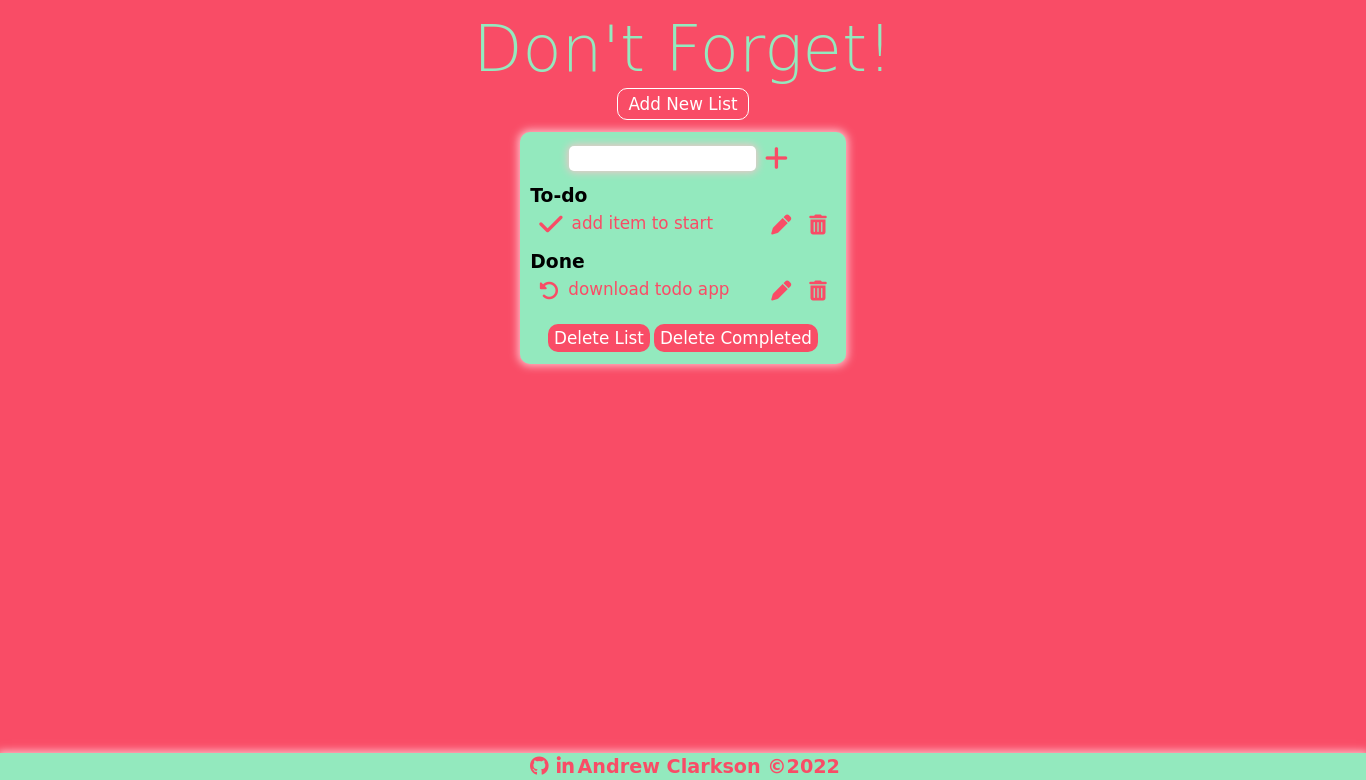
single todo list testing › can add new item to each list
Type "wash car" into the field with test id "input" at (663,159), box x1=569 y1=146 x2=756 y2=171
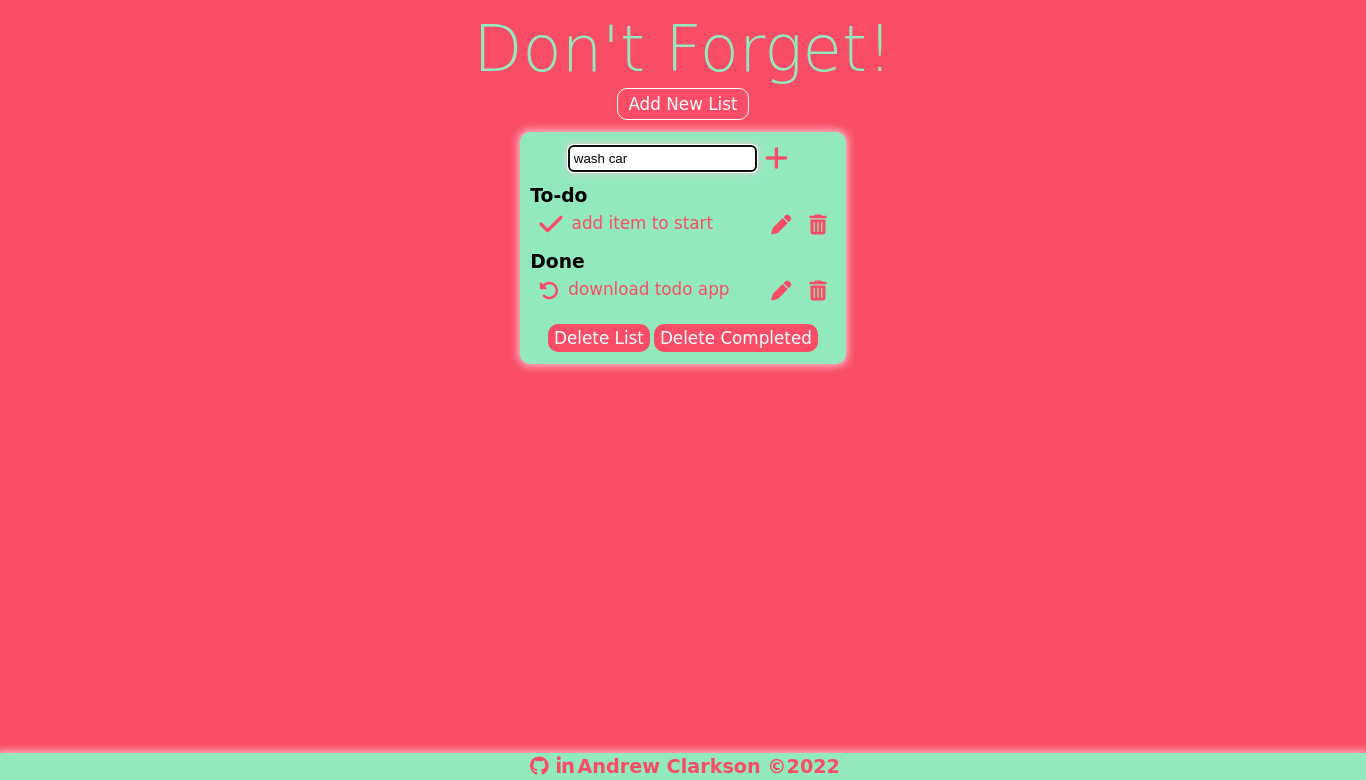
Press Enter in the field with test id "input", box x1=569 y1=146 x2=756 y2=171
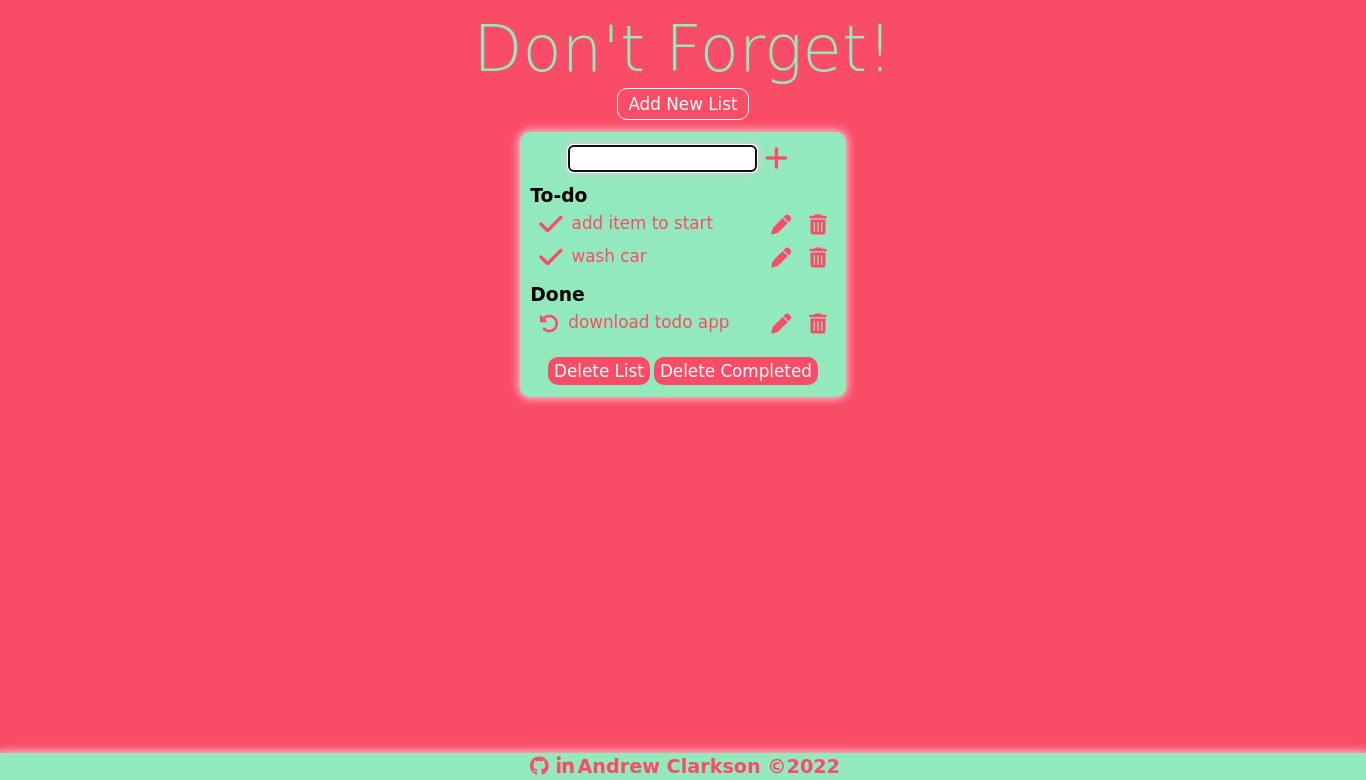
Expected: the list item "wash car" is shown, x1=530 y1=241 x2=836 y2=274
